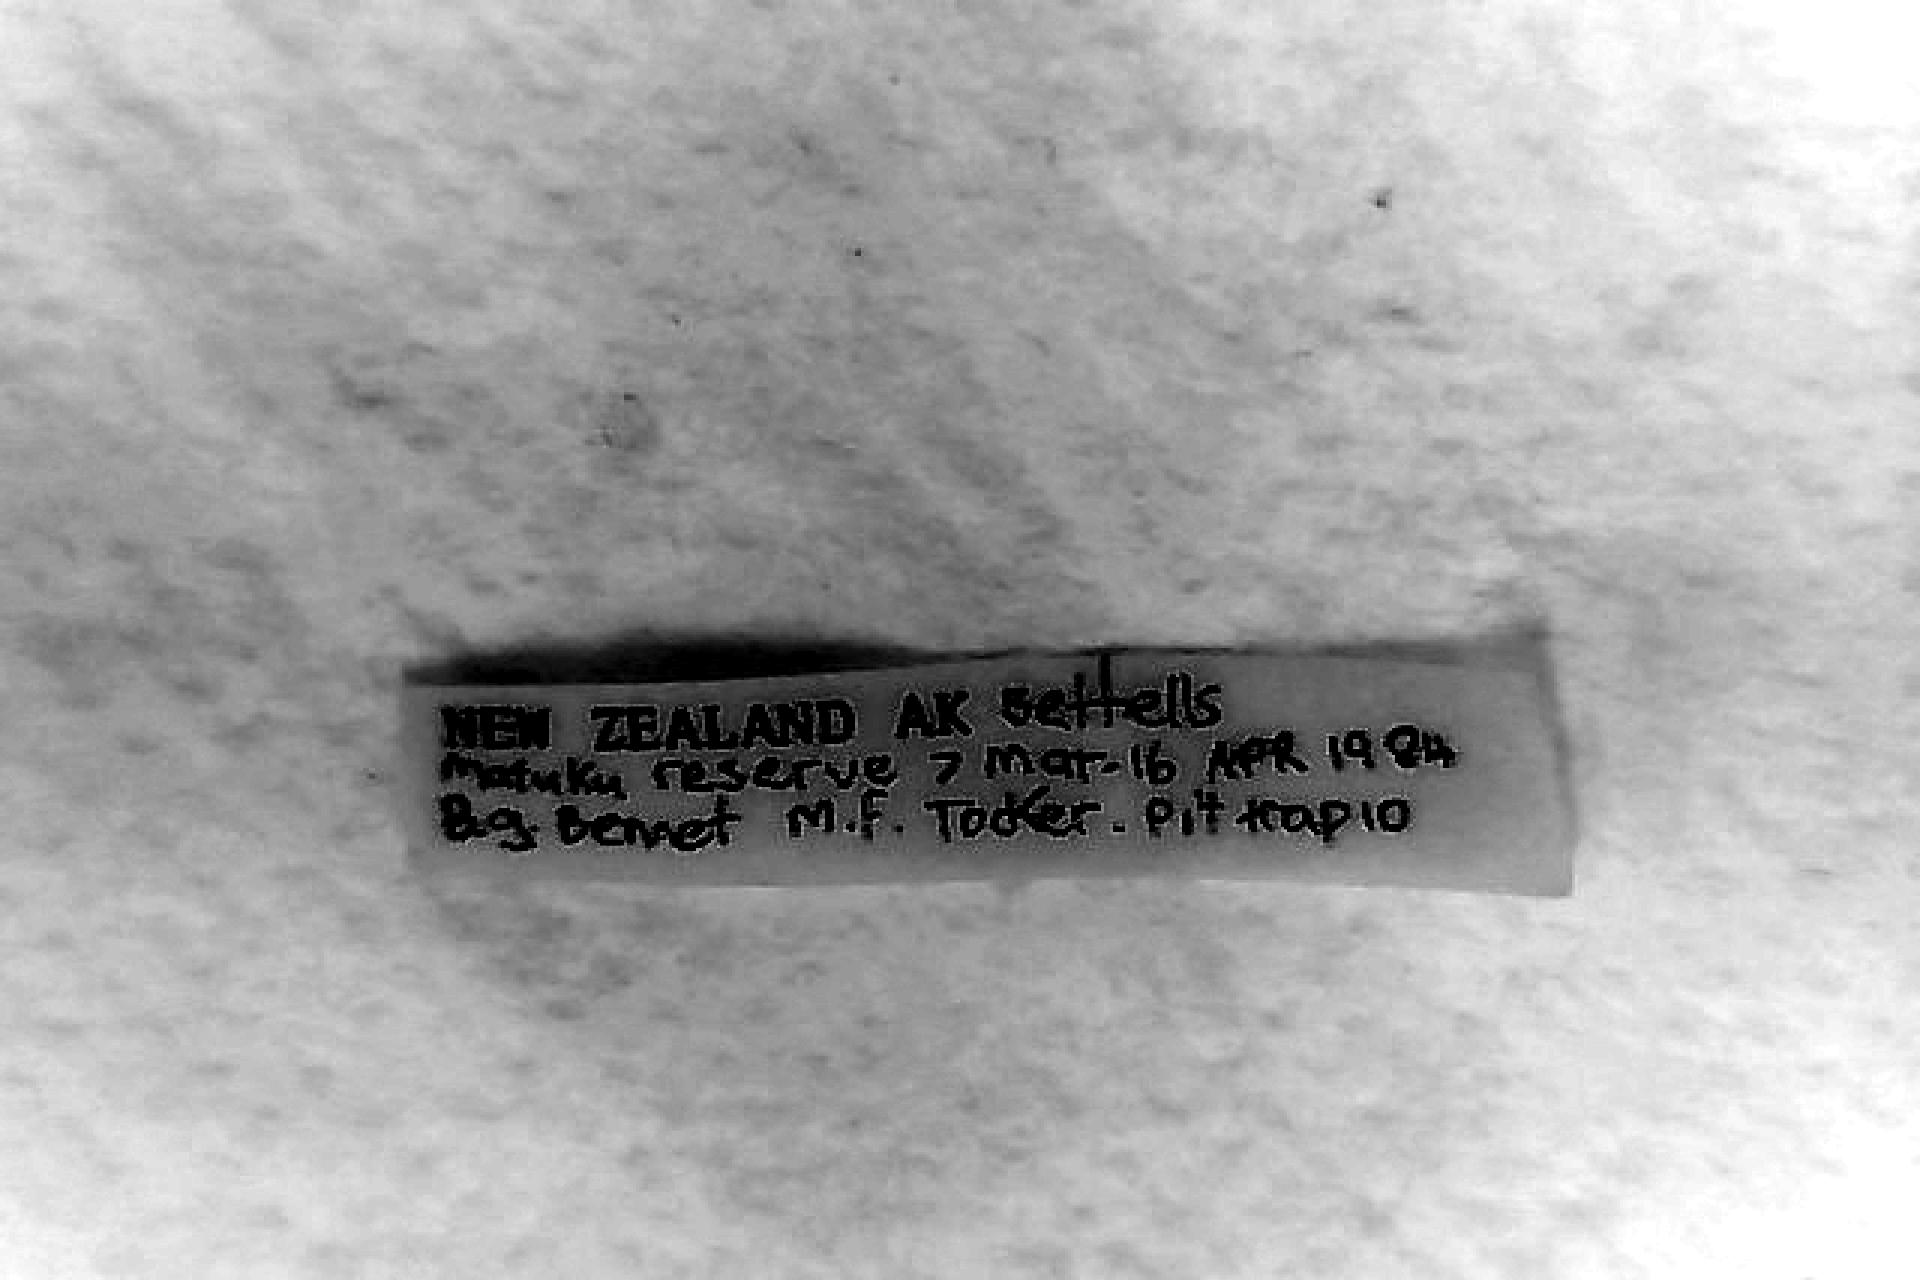mixed_label: (405, 643, 1564, 892)
